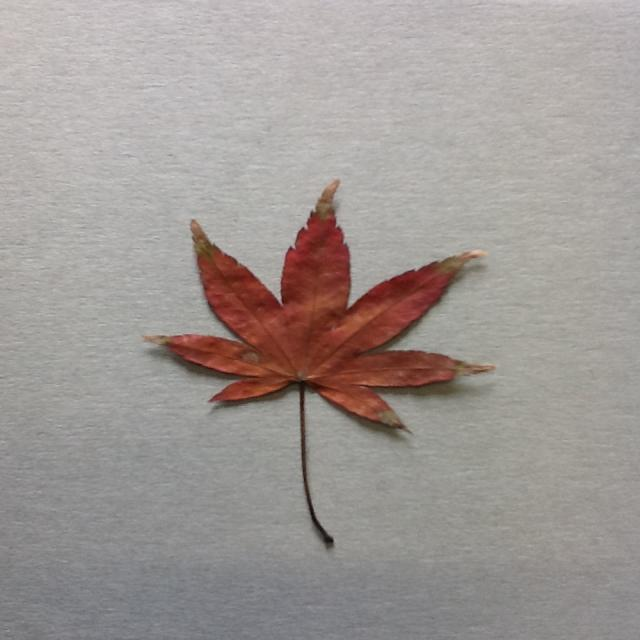foliage: (144, 178, 498, 550)
